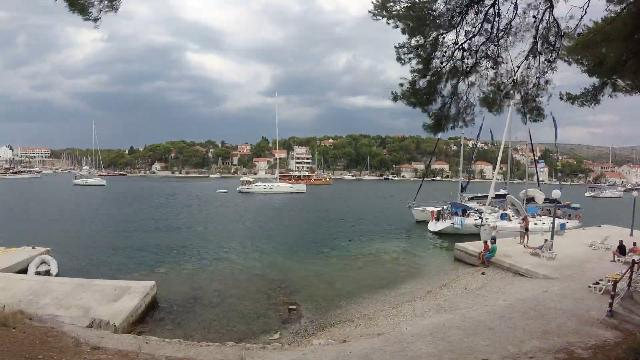Freighter: (276, 163, 338, 187), (0, 162, 48, 182)
Sailboat: (232, 170, 312, 196), (70, 172, 110, 190)
